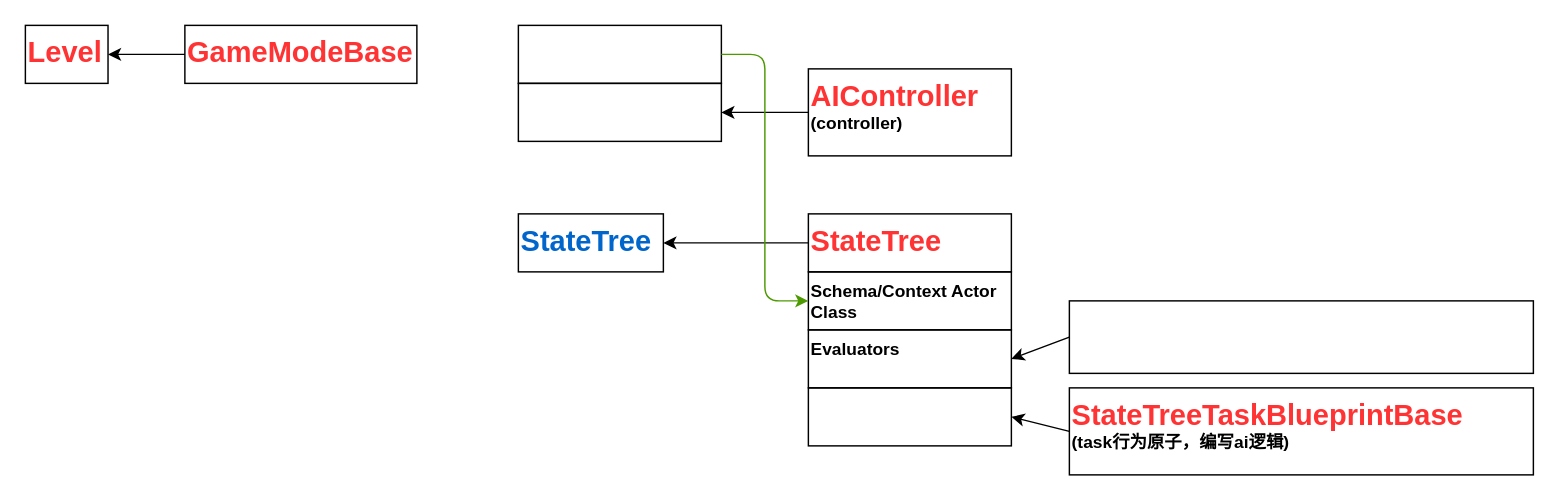
Some shapes in this 1559 by 500 pixel diagram are drawn without their labels. The centre of each missing label's shape, as x and y in pixels:
Character: the point at 619,53
class Defaults/pawn/AI Controller Class: the point at 619,111
StateTree/*state Details/Tasks: the point at 909,416
StateTreeEveluatorBlueprintBase (初始变量转换，存储): the point at 1300,336
